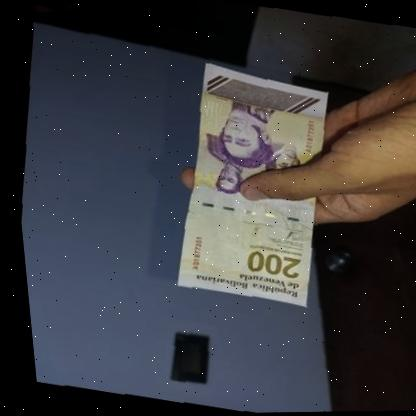two_hundred-front-vef: (153, 59, 345, 310)
